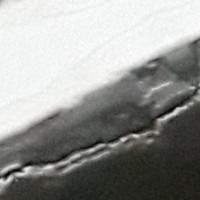crack: (0, 88, 199, 199)
